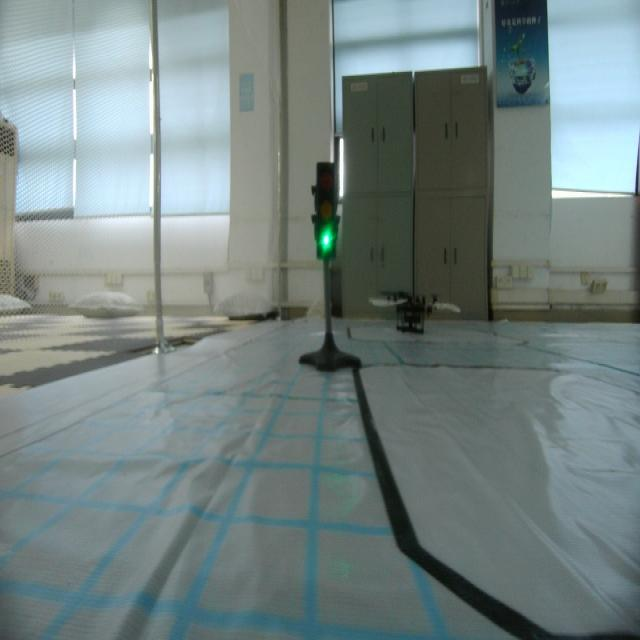green: (304, 159, 346, 267)
